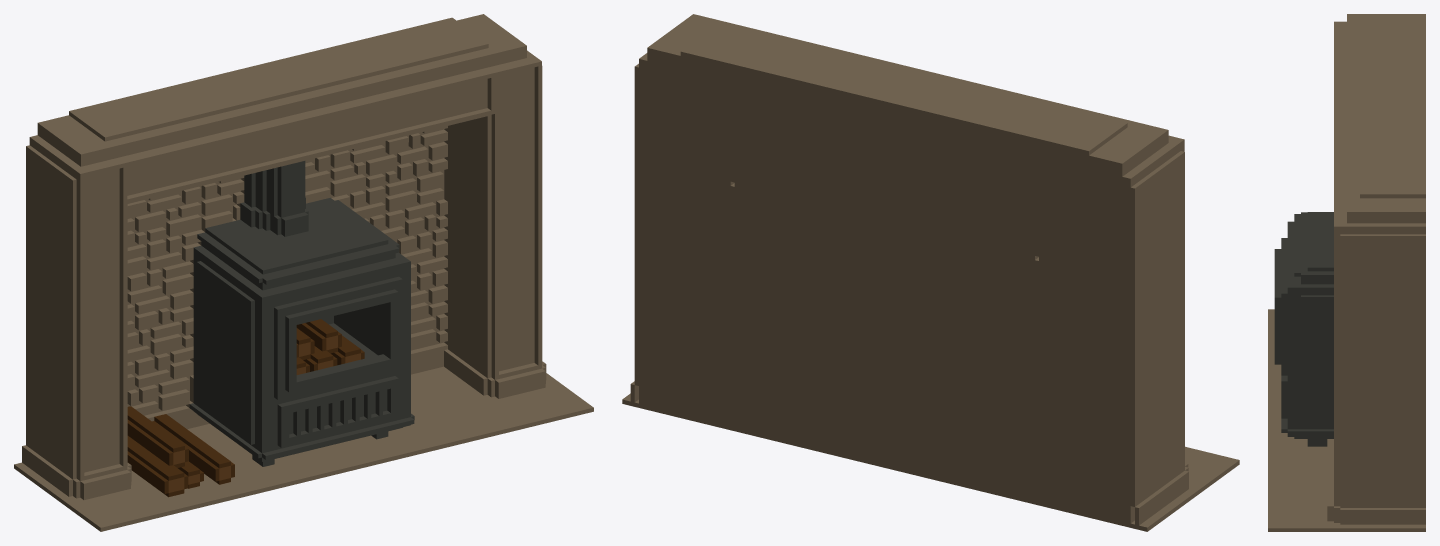
Rendered from fireplace.fbx.
The picture shows the model from 3 angles, left to right: view 1: azimuth 30°, elevation 25°; view 2: azimuth 150°, elevation 25°; view 3: azimuth 270°, elevation 25°; orthographic projection. The views are drawn at different scales.
Parts seen in each view (by area): view 1: fireplace; view 2: fireplace; view 3: fireplace.
Part boxes in pixels (x1,y1,x2,y2): fireplace: (14, 14, 593, 531); fireplace: (622, 14, 1239, 531); fireplace: (1268, 14, 1425, 531).
Bounding box in the file's own units: 328 × 219 × 100.
